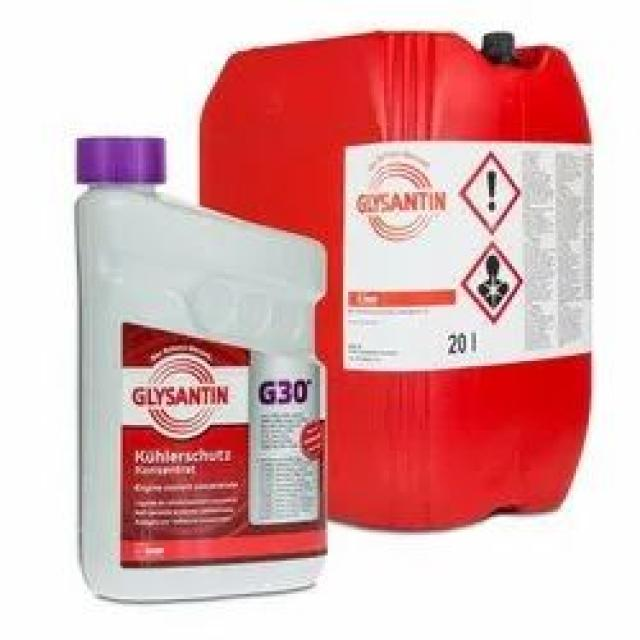coolant: (61, 129, 326, 606)
